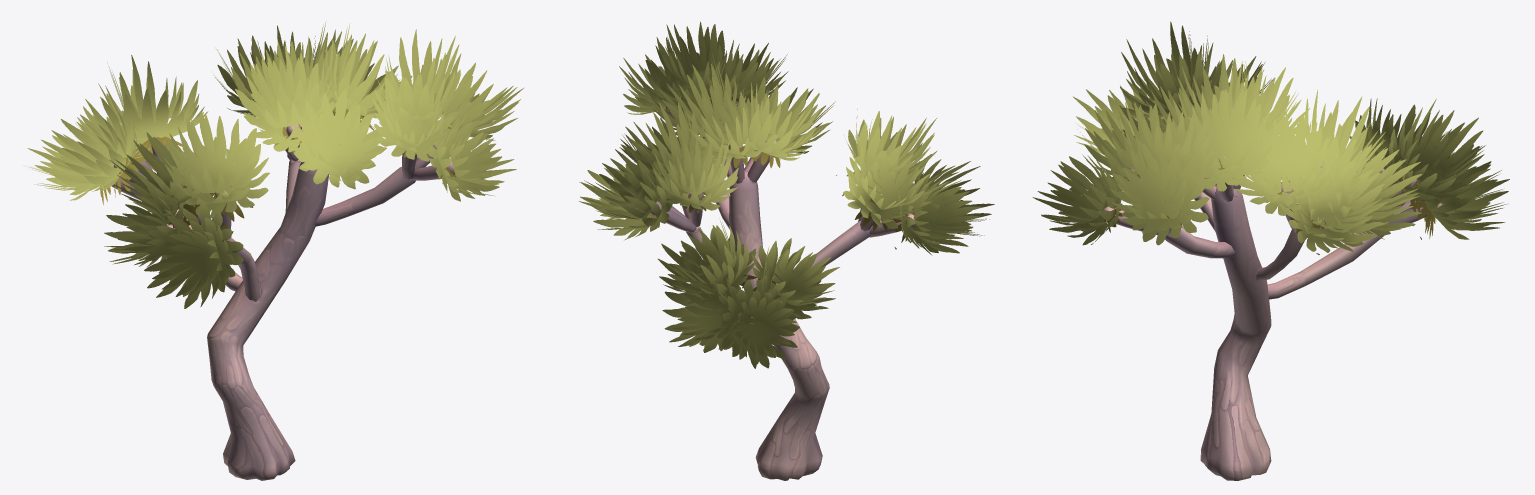
File: TreeDracoSmall_GEO.fbx
The picture shows the model from 3 angles, left to right: view 1: azimuth 30°, elevation 25°; view 2: azimuth 150°, elevation 25°; view 3: azimuth 270°, elevation 25°; orthographic projection. The views are drawn at different scales.
Parts seen in each view (by area): view 1: TreeDracoSmall_LOD0; view 2: TreeDracoSmall_LOD0; view 3: TreeDracoSmall_LOD0.
Boxes of the visible parts, x1,y1,x2,y2 form: TreeDracoSmall_LOD0: [24, 22, 524, 480]; TreeDracoSmall_LOD0: [579, 21, 994, 480]; TreeDracoSmall_LOD0: [1032, 21, 1509, 480].
Size of what is drawn, in the model's own units: 22.13 by 22.01 by 22.46.
